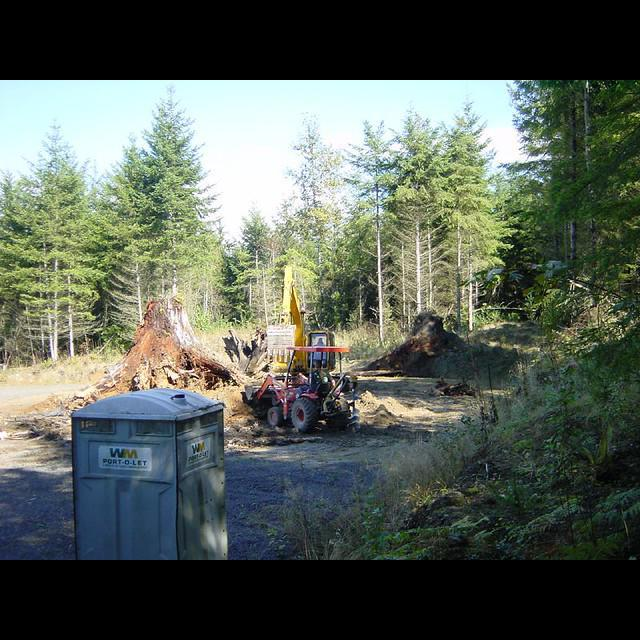Excavator: (251, 267, 338, 377)
Person: (316, 338, 325, 346)
Safety Vest: (316, 342, 324, 346)
wheel loader: (245, 345, 359, 432)
